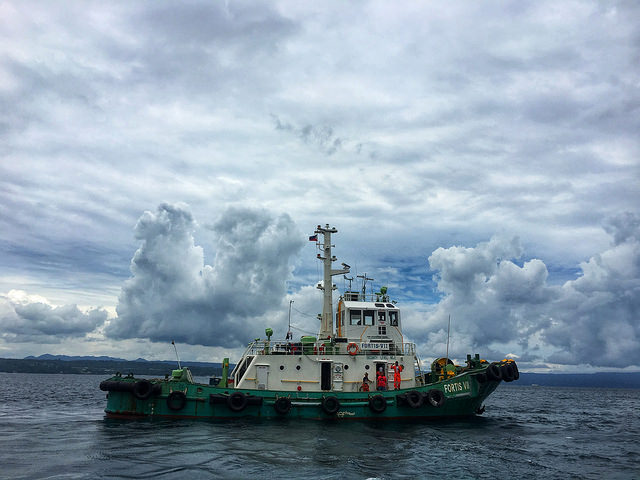tug_boat: (100, 221, 525, 425)
